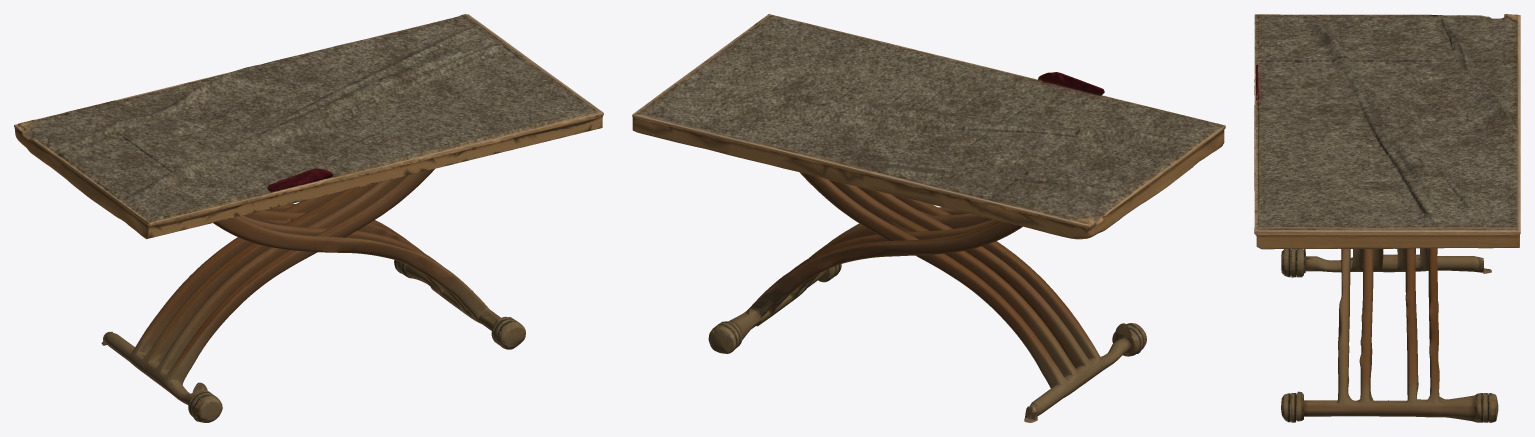
The model's file is table.glb.
3 views of the same model, side by side, from view 1: azimuth 30°, elevation 25°; view 2: azimuth 150°, elevation 25°; view 3: azimuth 270°, elevation 25° (orthographic). The views are drawn at different scales.
Parts seen in each view (by area): view 1: tripo_node_26d766f6-e452-4cdc-9272-63b7f58b5b07; view 2: tripo_node_26d766f6-e452-4cdc-9272-63b7f58b5b07; view 3: tripo_node_26d766f6-e452-4cdc-9272-63b7f58b5b07.
Boxes of the visible parts, x1,y1,x2,y2 form: tripo_node_26d766f6-e452-4cdc-9272-63b7f58b5b07: (14,14,603,422); tripo_node_26d766f6-e452-4cdc-9272-63b7f58b5b07: (632,14,1225,422); tripo_node_26d766f6-e452-4cdc-9272-63b7f58b5b07: (1254,14,1520,422).
Bounding box in the file's own units: 0.9785 × 0.5016 × 0.507.
1 material, 1 textured.
